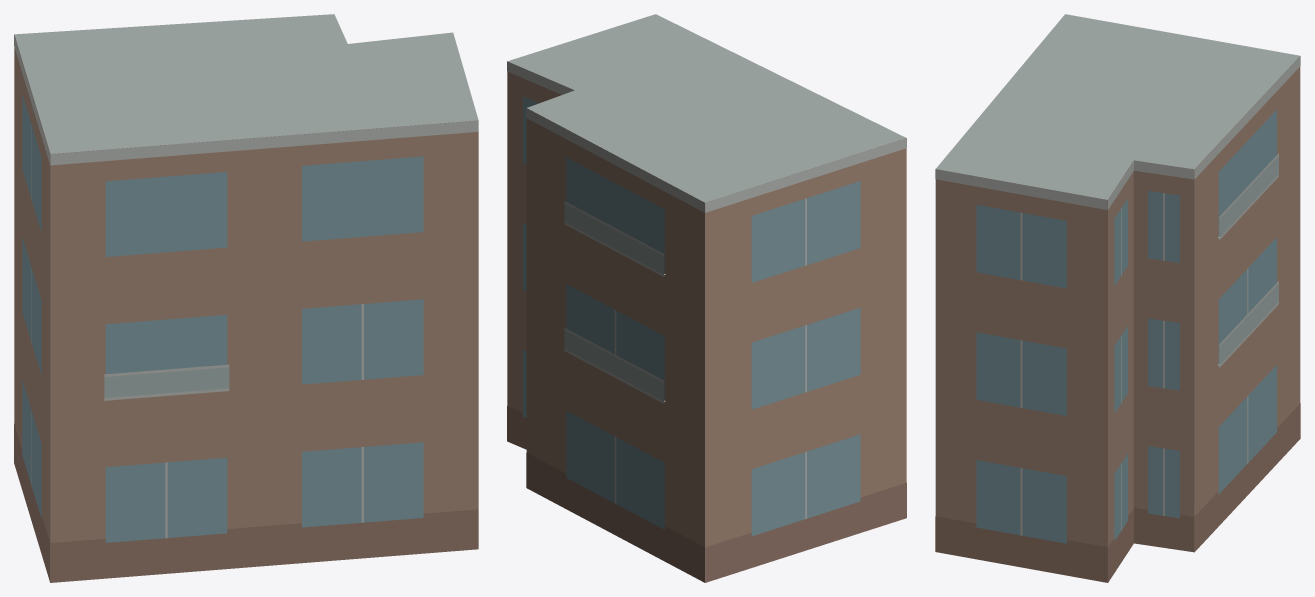
The model's file is survey-upis-32491664.glb.
The picture shows the model from 3 angles, left to right: view 1: azimuth 30°, elevation 25°; view 2: azimuth 150°, elevation 25°; view 3: azimuth 270°, elevation 25°; orthographic projection. The views are drawn at different scales.
Visible parts, largest first — view 1: survey-upis-32491664.tmp; view 2: survey-upis-32491664.tmp; view 3: survey-upis-32491664.tmp.
Part boxes in pixels (left/top/right/bottom): survey-upis-32491664.tmp: left=14, top=14, right=478, bottom=582; survey-upis-32491664.tmp: left=507, top=14, right=906, bottom=582; survey-upis-32491664.tmp: left=935, top=14, right=1300, bottom=582.
Size of the model in its own units: 9.54 by 9.15 by 7.91.
